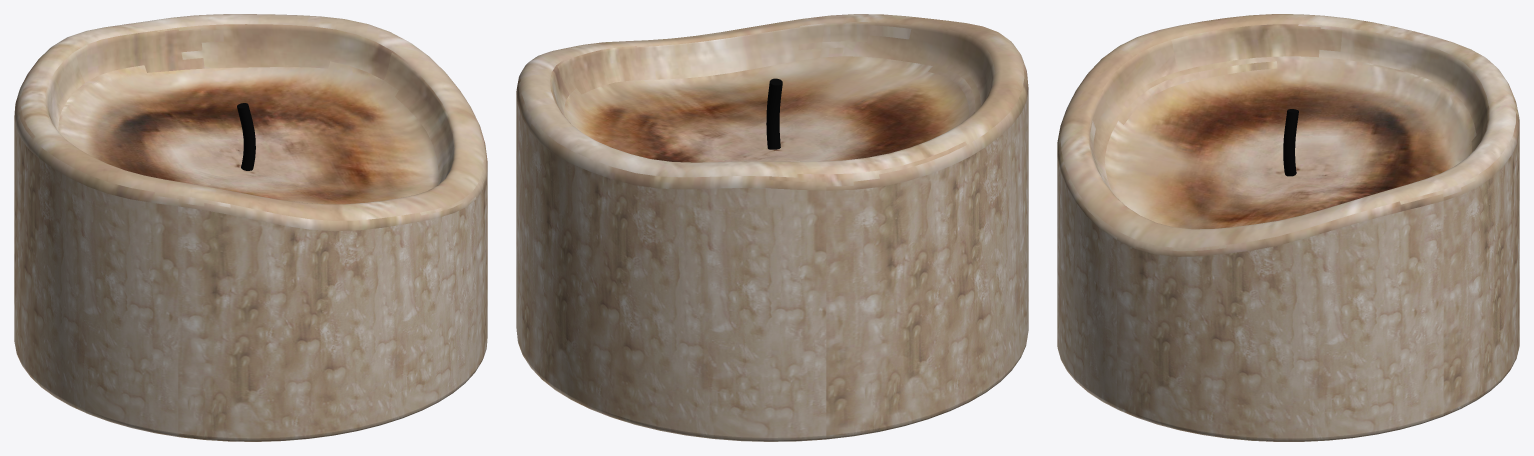
File: Simple candle4.fbx
3 views of the same model, side by side, from view 1: azimuth 30°, elevation 25°; view 2: azimuth 150°, elevation 25°; view 3: azimuth 270°, elevation 25° (orthographic). The views are drawn at different scales.
Visible parts, largest first — view 1: Simple candle 4; view 2: Simple candle 4; view 3: Simple candle 4.
Part boxes in pixels (x1,y1,x2,y2): Simple candle 4: (14, 14, 487, 441); Simple candle 4: (516, 14, 1028, 441); Simple candle 4: (1057, 14, 1519, 441).
Bounding box in the file's own units: 9.21 × 5.39 × 9.21.
1 material, 1 textured.
